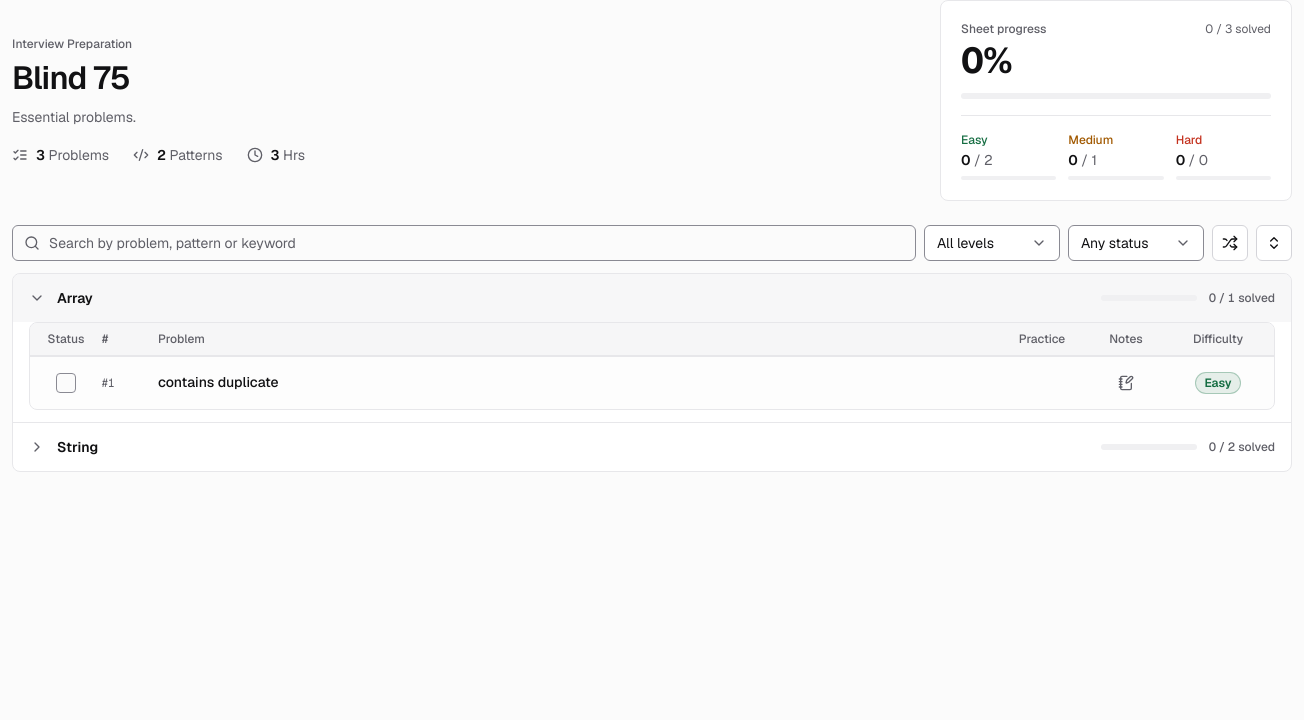
Test: Selected sheet view › marks a problem solved and updates the pattern and sheet progress
What coordinates should you click on to do the following:
click the button named "Mark contains duplicate as solved"
I would click on:
 (66, 383)
Its box is [56,373,76,393].
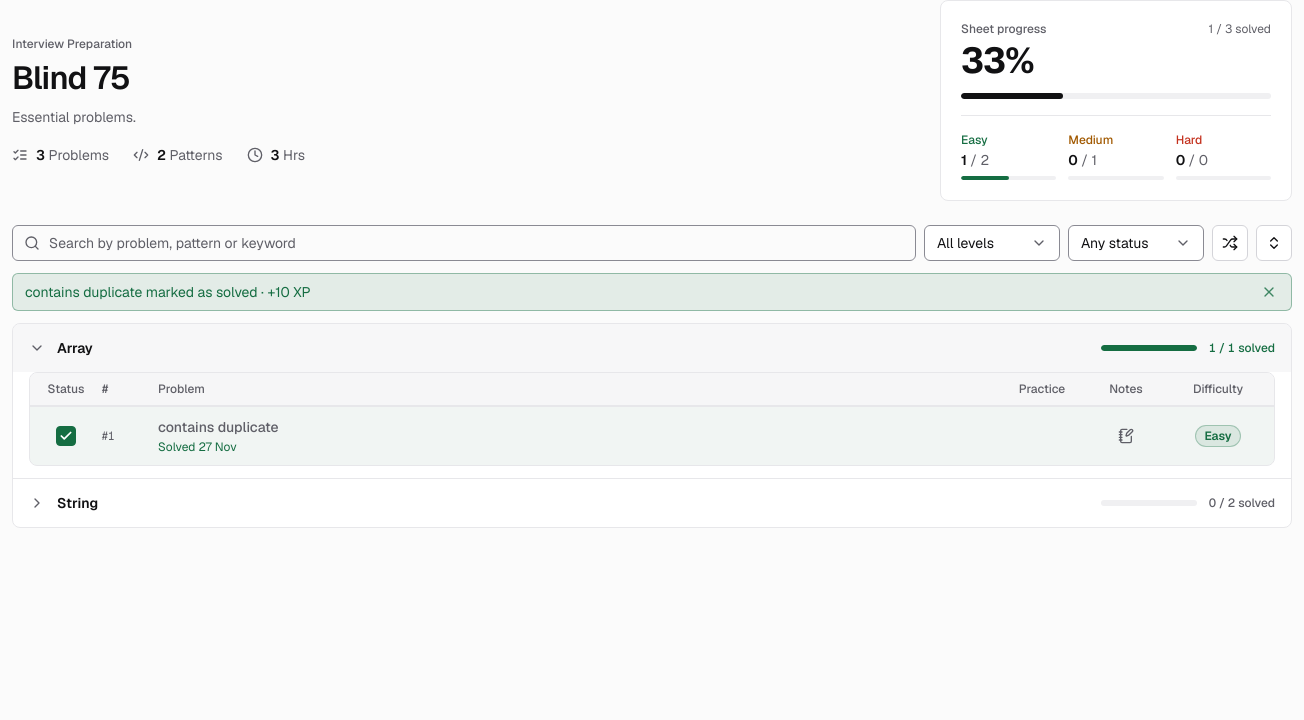
Check: the text "contains duplicate marked as solved · +10 XP" is shown, box [25,282,311,302]
Check: the text "1 / 1 solved" is shown, box [1209,340,1275,356]
